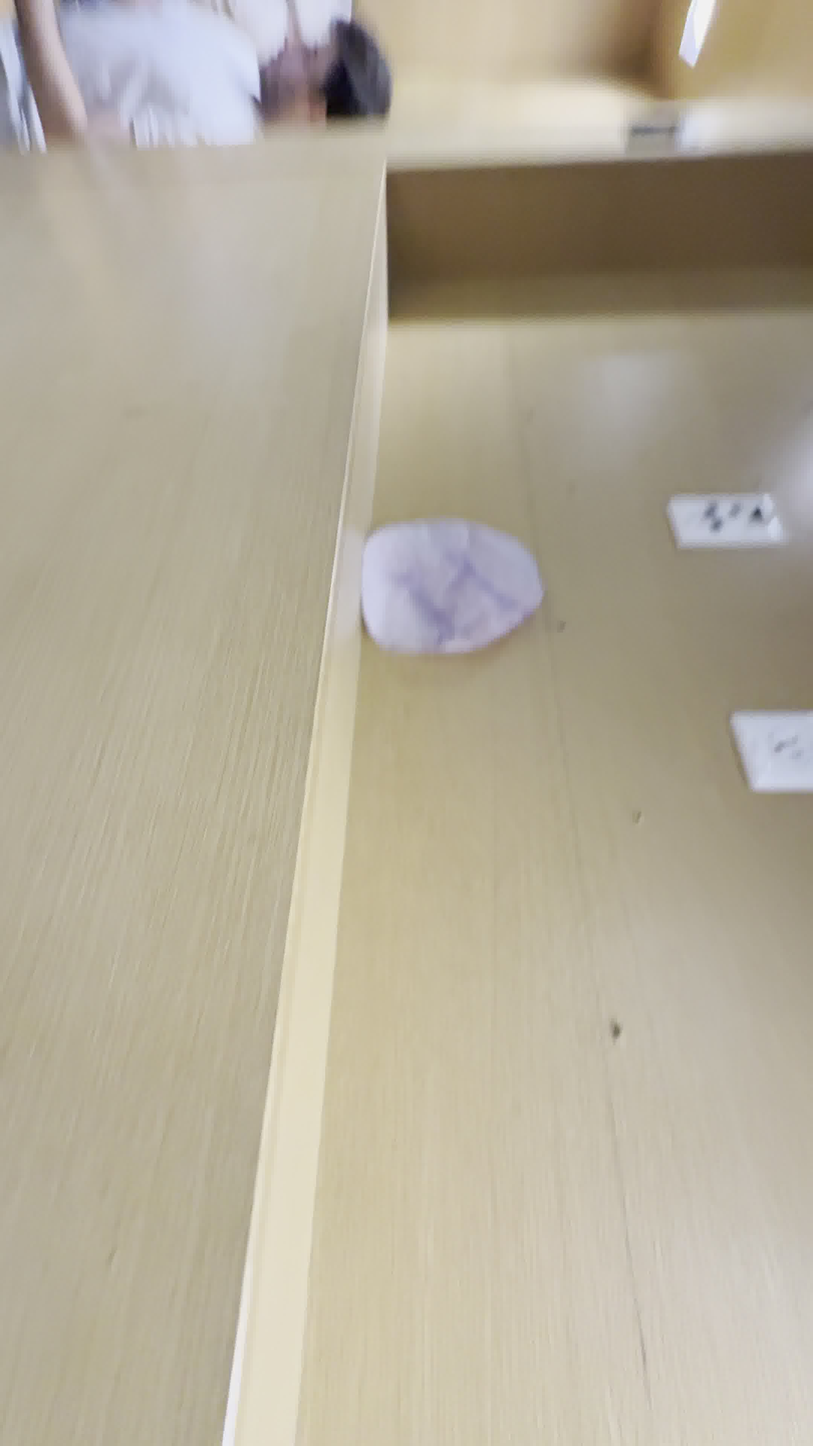Target: (363, 521, 545, 656)
